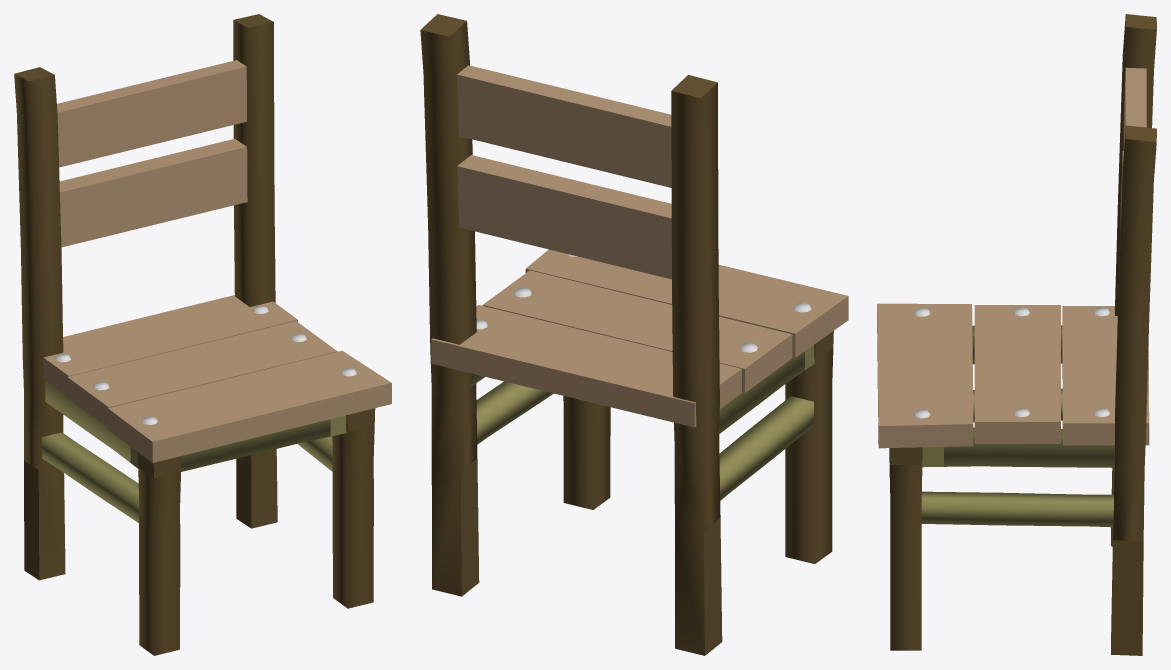
The model's file is opt_chair.glb.
3 views of the same model, side by side, from view 1: azimuth 30°, elevation 25°; view 2: azimuth 150°, elevation 25°; view 3: azimuth 270°, elevation 25° (orthographic). The views are drawn at different scales.
Visible parts, largest first — view 1: opt_chair; view 2: opt_chair; view 3: opt_chair.
Boxes of the visible parts, x1=… form: opt_chair: x1=14, y1=14, x2=391, y2=655; opt_chair: x1=420, y1=14, x2=848, y2=655; opt_chair: x1=877, y1=14, x2=1156, y2=655.
Bounding box in the file's own units: 0.6096 × 1.18 × 0.5764.
